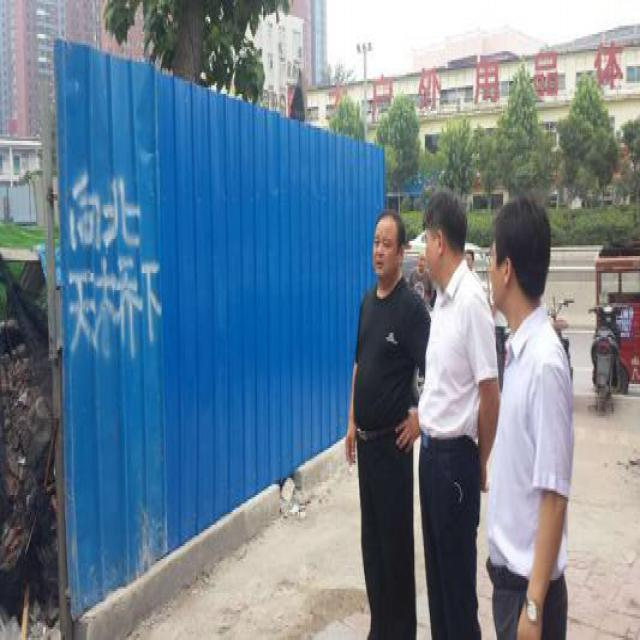head: (486, 193, 556, 323), (414, 185, 469, 291), (369, 206, 410, 287)
person: (482, 177, 594, 640), (407, 175, 500, 640), (336, 207, 427, 635)
